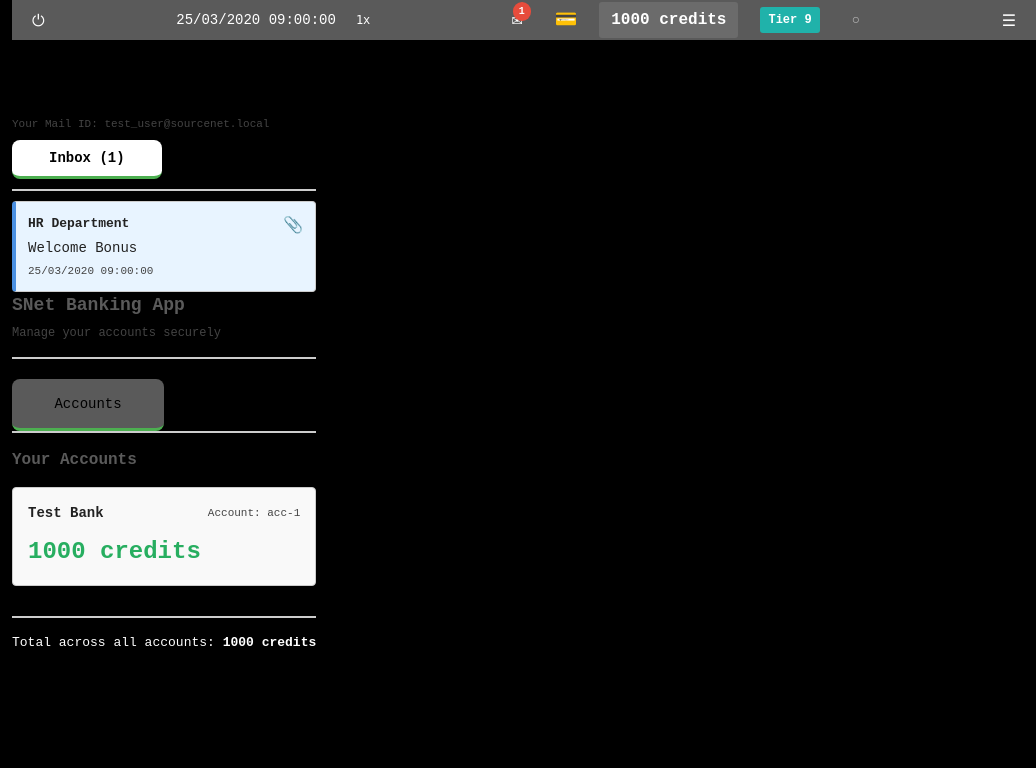
Scenario: Cheque Deposit Integration › should complete full cheque deposit flow
This screenshot has width=1036, height=768.
expect the text titled "Click to open Banking App" next to "Tier" reads "1000 credits": met, box [599,2,738,38]
// Click the message in the mail list to open it
Click the text "Welcome Bonus". click: click(83, 248)
box: [28,240,137,256]
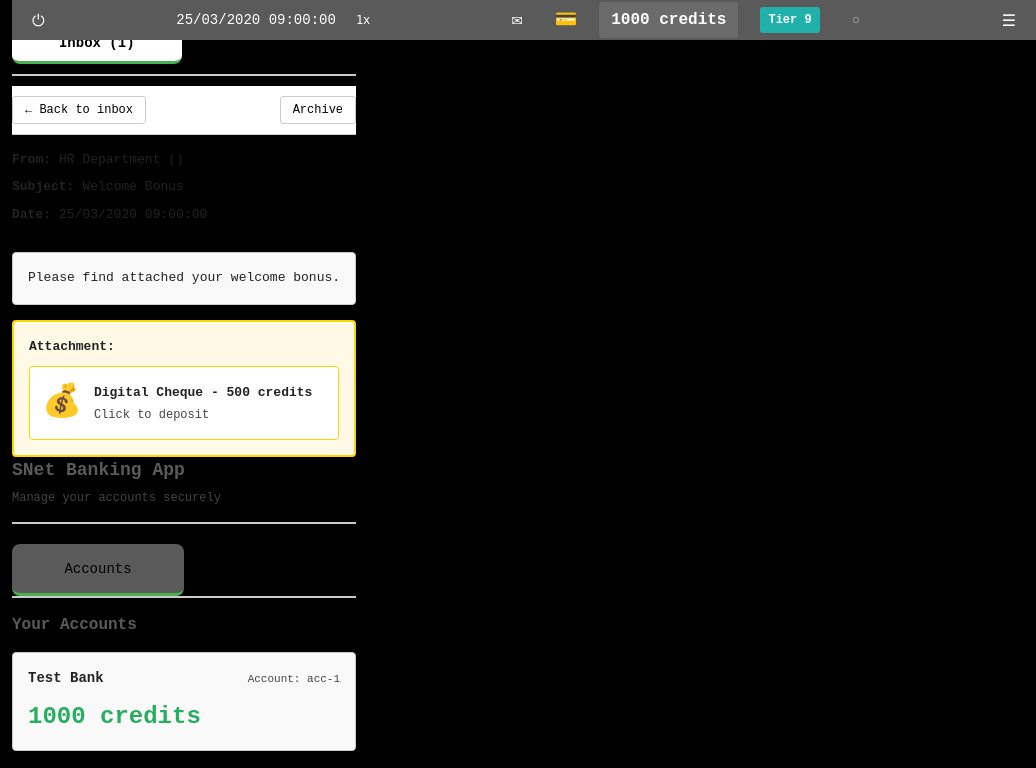
expect the text "Click to deposit" is shown: met, box [94,408,209,422]
// Click the cheque attachment
Click the text "Digital Cheque - 500 credits". click: click(210, 392)
box: [94,382,326,402]
(page scrolled)
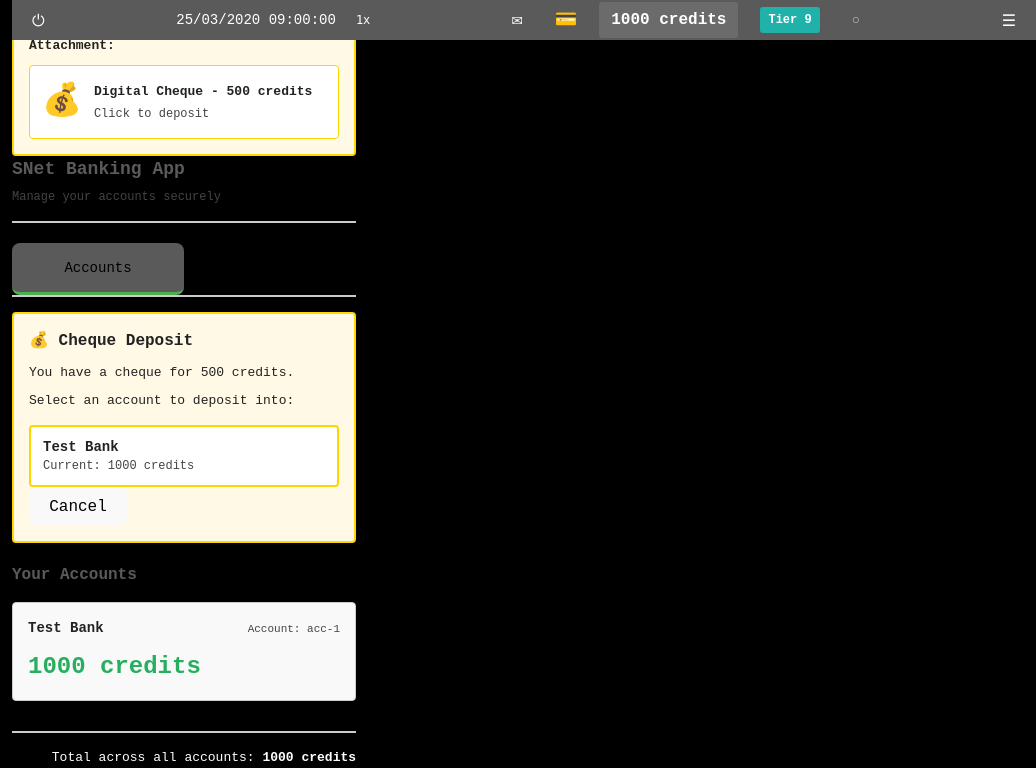
expect the text "💰 Cheque Deposit" is shown: met, box [29,332,193,350]
// Click the account button to deposit
Click the button "Test Bank Current: 1000 credits". click: click(184, 456)
box: [29,425,339,487]
(page scrolled)
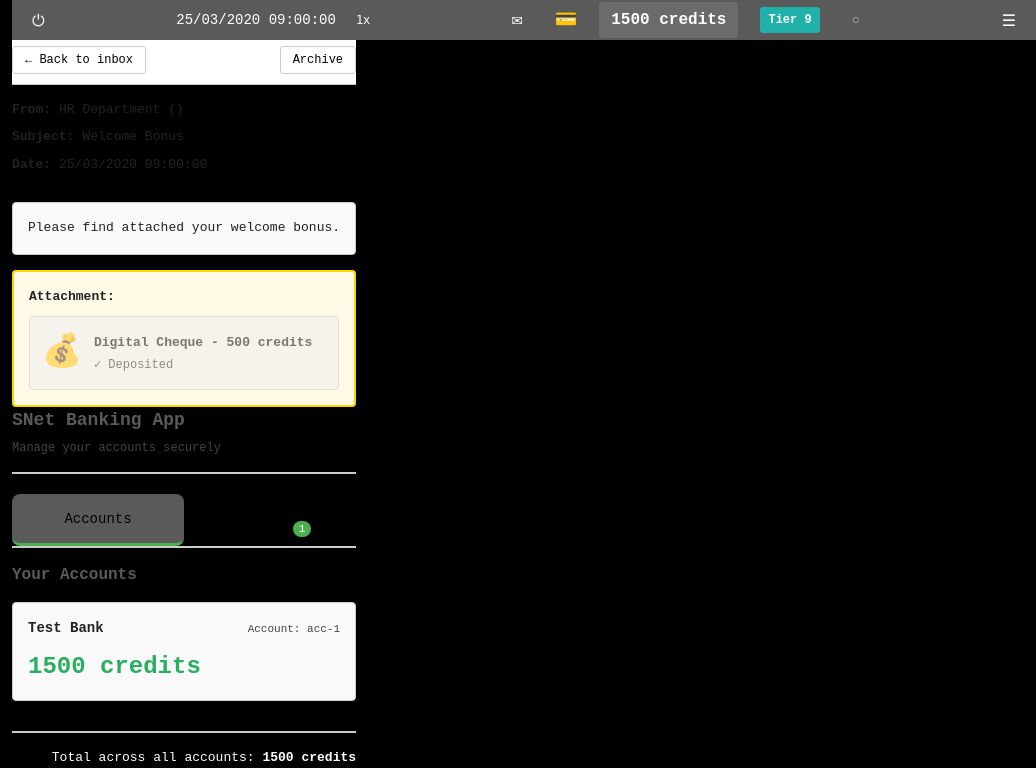
expect the text "✓ Deposited" is shown: met, box [94,358,173,372]
expect the text titled "Click to open Banking App" next to "Tier" reads "1500 credits": met, box [599,2,738,38]
expect the text "💰 Cheque Deposit" is gone: met
